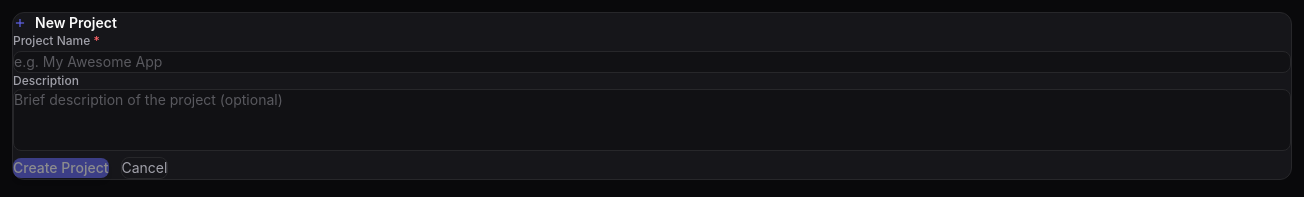
ProjectCreateForm (FM-012) › shows the 'Creating…' loading label while submission is pending and disables cancel
Step 1. Type "Atlas" into the field labelled "Project Name *" → (652, 62), box [13, 51, 1291, 73]
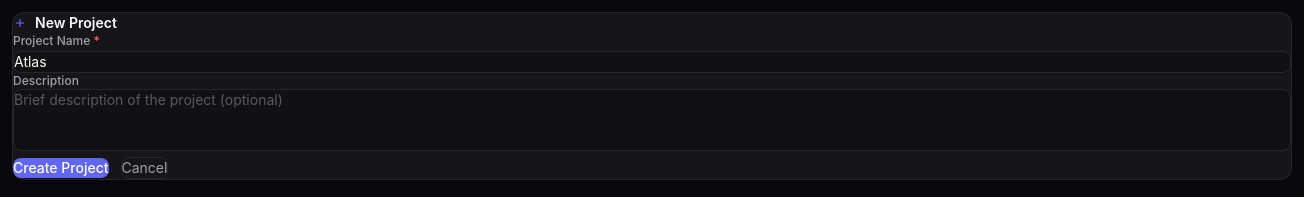
Step 2. Type "ops hub" into the text box labelled "Description" → (652, 120), box [13, 89, 1291, 151]
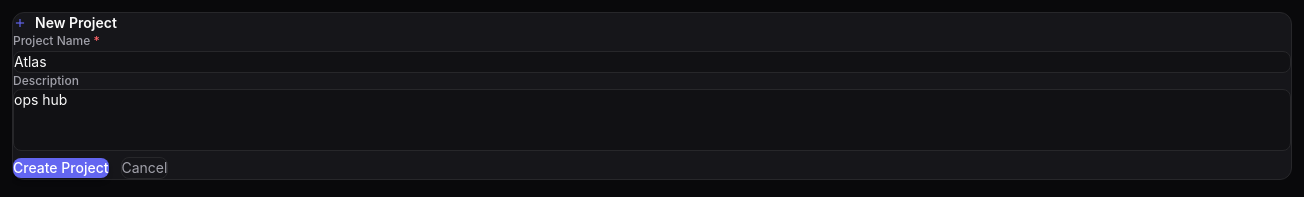
Step 3. Click the button "Create Project" → (61, 168), box [13, 158, 108, 178]
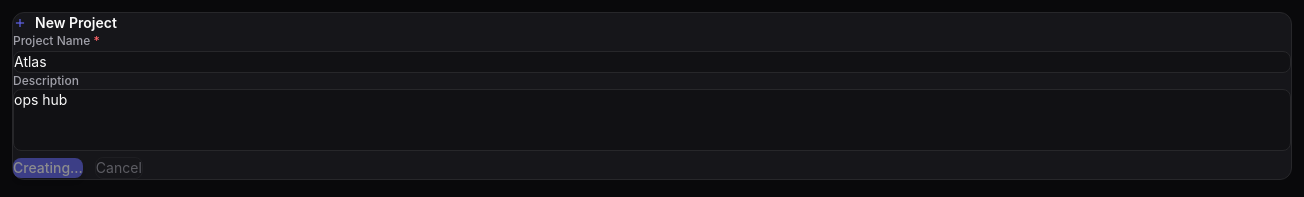
Result: the button "Creating…" is disabled at [13, 158, 83, 178]
Result: the button "Cancel" is disabled at [95, 157, 143, 179]
